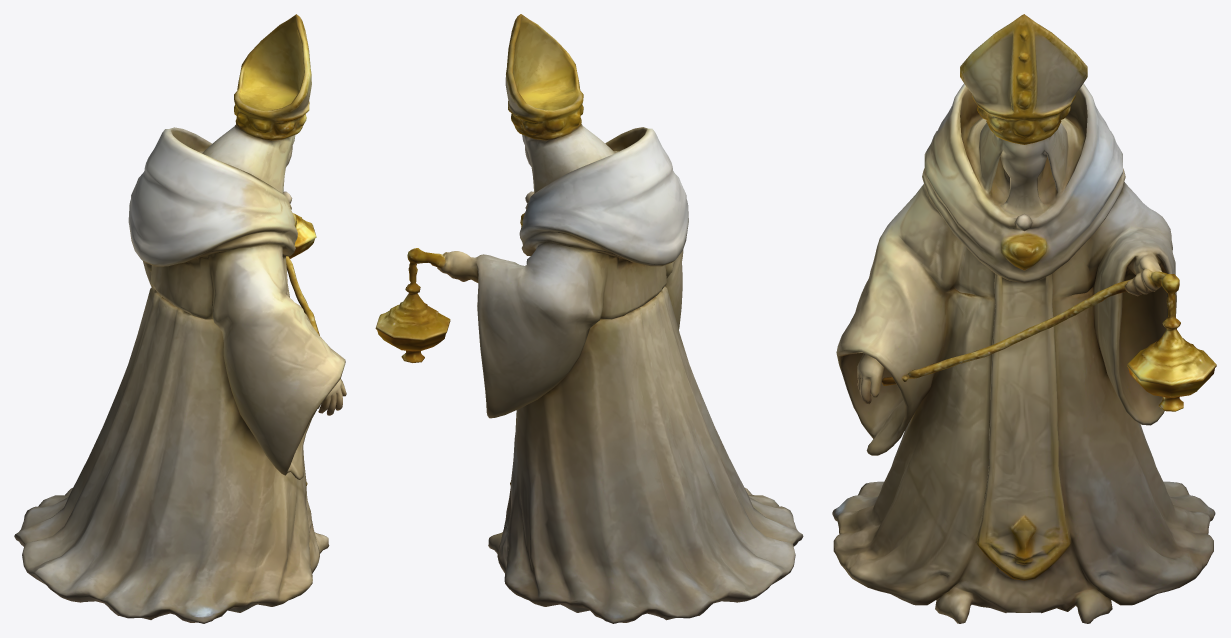
3 views of the same model, side by side, from view 1: azimuth 30°, elevation 25°; view 2: azimuth 150°, elevation 25°; view 3: azimuth 270°, elevation 25° (orthographic). The views are drawn at different scales.
Visible parts, largest first — view 1: tripo_node_b4c28132-b984-4b66-918a-0ba80efc4162; view 2: tripo_node_b4c28132-b984-4b66-918a-0ba80efc4162; view 3: tripo_node_b4c28132-b984-4b66-918a-0ba80efc4162.
Boxes of the visible parts, box(x1,y1,x2,y2) form: tripo_node_b4c28132-b984-4b66-918a-0ba80efc4162: box(14, 14, 346, 623); tripo_node_b4c28132-b984-4b66-918a-0ba80efc4162: box(375, 14, 803, 623); tripo_node_b4c28132-b984-4b66-918a-0ba80efc4162: box(832, 14, 1216, 623).
Size of the model in its own units: 0.6908 by 1 by 0.5714.
Materials: 1 (1 with a texture image).
